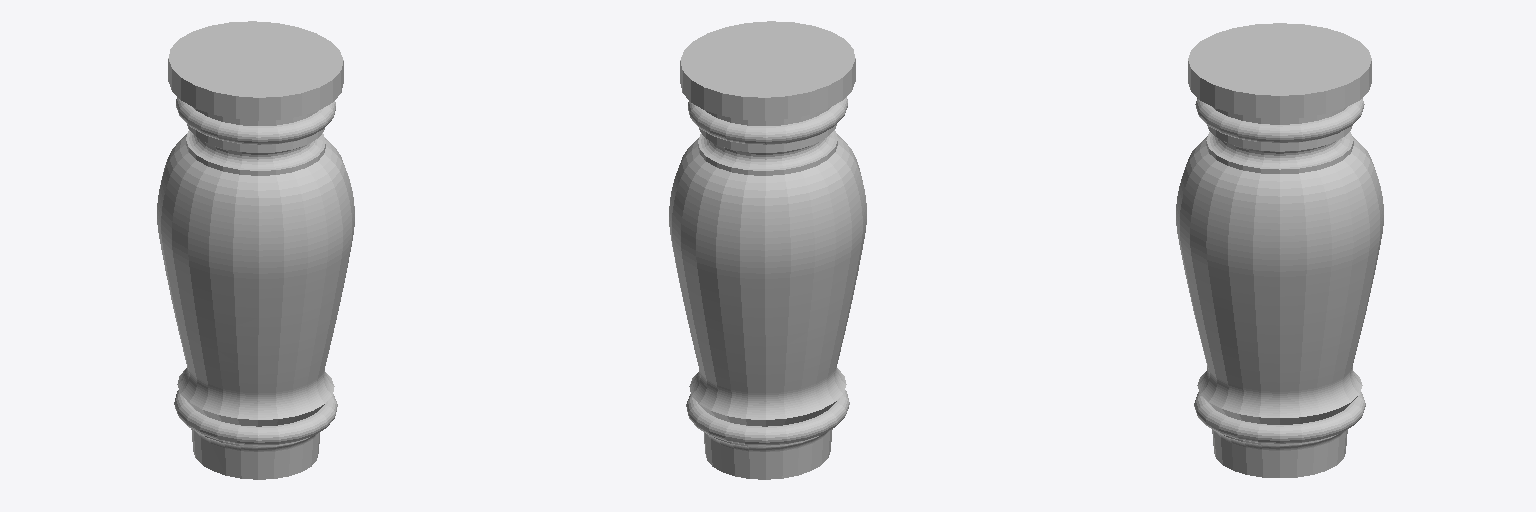
The model's file is original-9.obj.
The picture shows the model from 3 angles: view 1: azimuth 30°, elevation 25°; view 2: azimuth 150°, elevation 25°; view 3: azimuth 270°, elevation 25°; orthographic projection.
Visible parts, largest first — view 1: new_leg2/new_leg/mesh5/mesh5-geometry#mesh5-geometry; view 2: new_leg2/new_leg/mesh5/mesh5-geometry#mesh5-geometry; view 3: new_leg2/new_leg/mesh5/mesh5-geometry#mesh5-geometry.
Part boxes in pixels (bbox=[...]): new_leg2/new_leg/mesh5/mesh5-geometry#mesh5-geometry: bbox=[157, 21, 354, 479]; new_leg2/new_leg/mesh5/mesh5-geometry#mesh5-geometry: bbox=[669, 21, 866, 479]; new_leg2/new_leg/mesh5/mesh5-geometry#mesh5-geometry: bbox=[1176, 23, 1383, 477].
Size of the model in its own units: 0.1179 by 0.2627 by 0.1261.